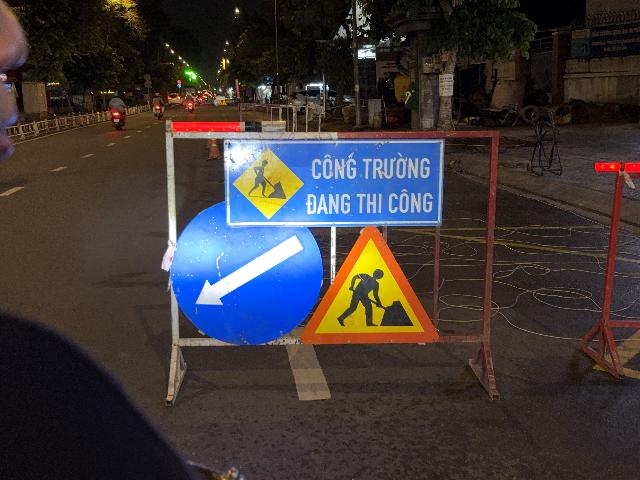cong-truong-dang-thi-cong: (300, 226, 439, 344)
huong-phai-di-vong-chuong-ngai-vat: (171, 199, 323, 346)
